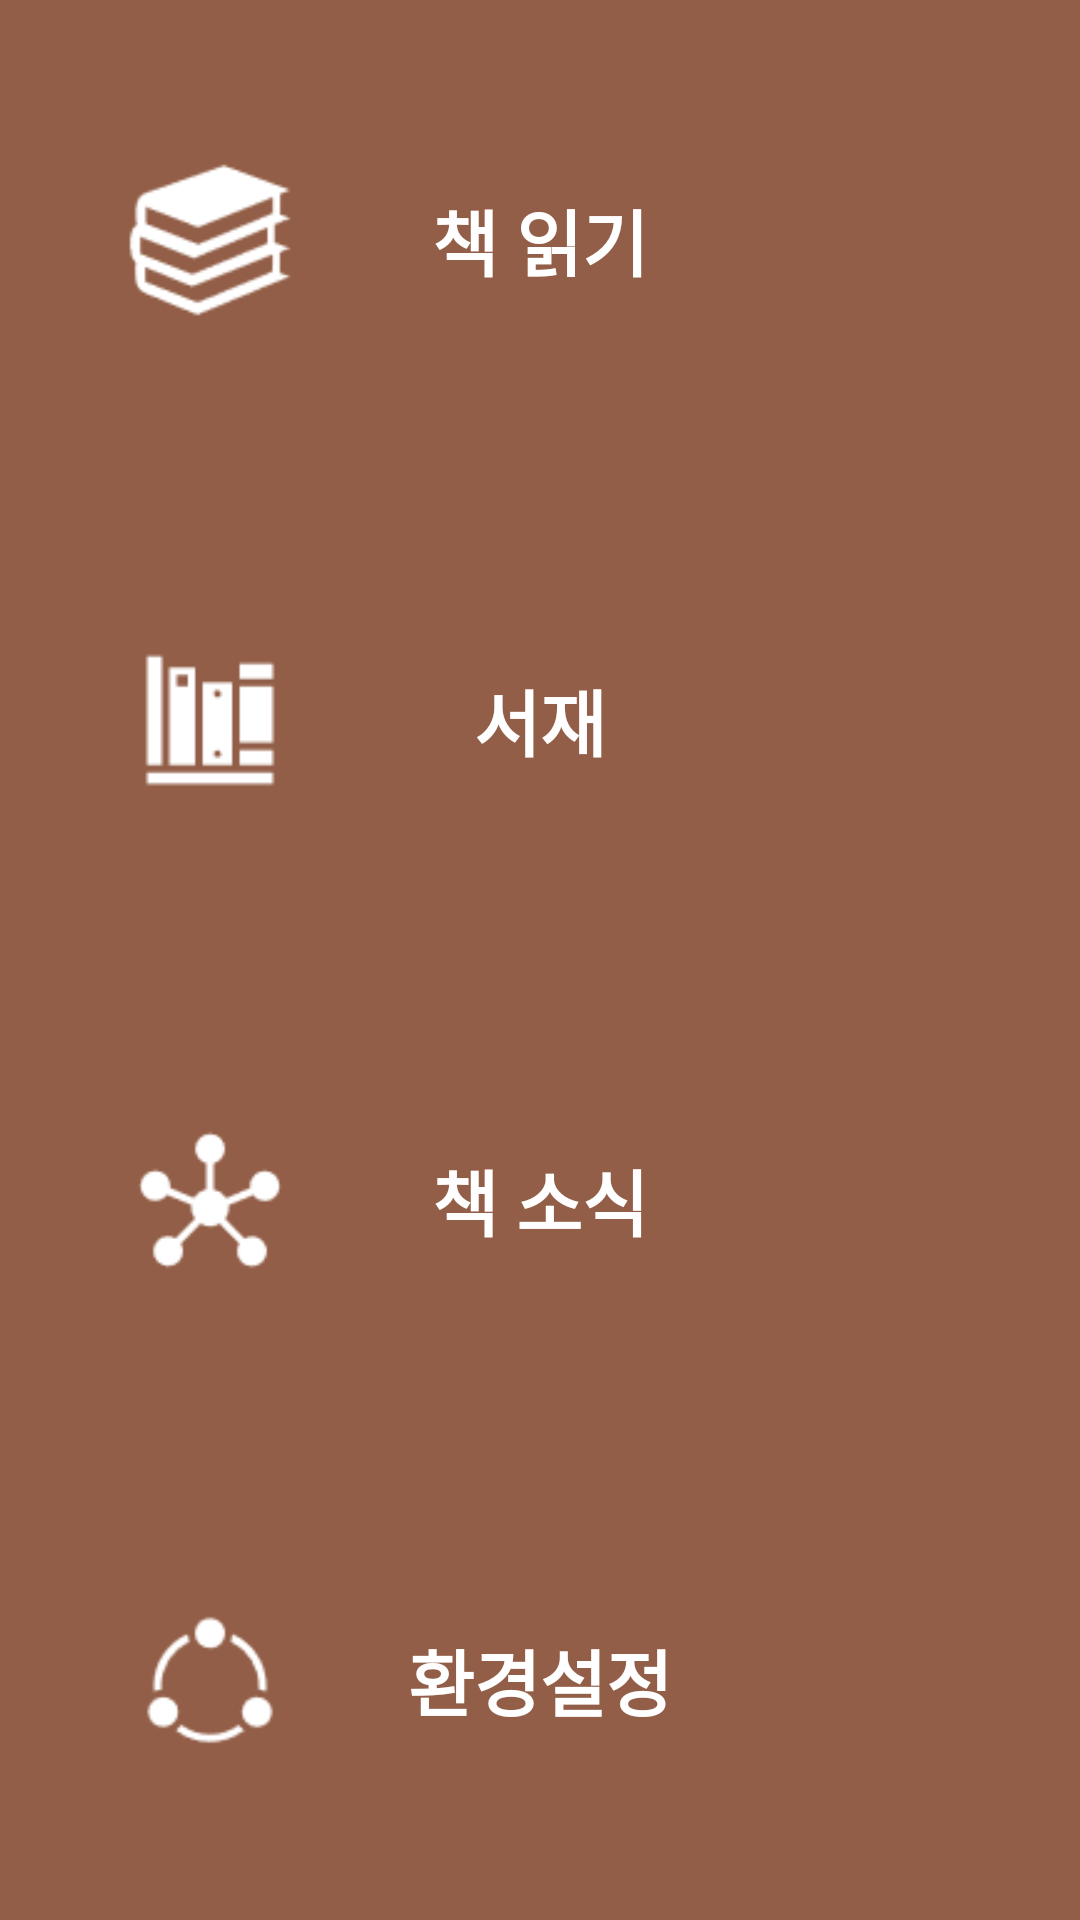

Locate icon controls on the screen. Image size 1080 x 1920, boxes as (x1,y1,x2,y2).
library: (145,654,275,786)
read: (129,164,290,316)
